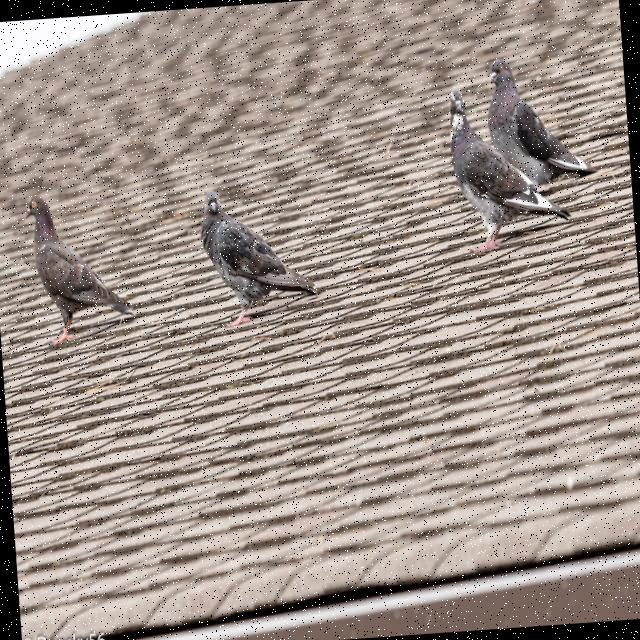bird: (443, 80, 573, 256), (195, 180, 320, 332), (21, 187, 136, 346), (482, 51, 598, 193)
